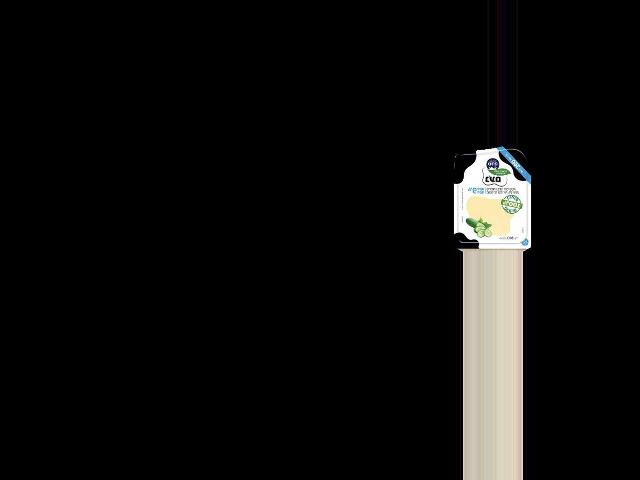cheese: (449, 148, 535, 252)
